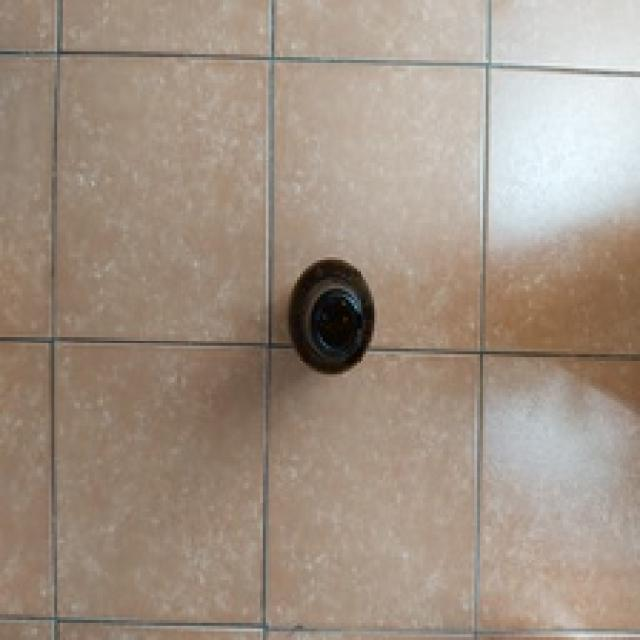Glass: (288, 258, 378, 376)
